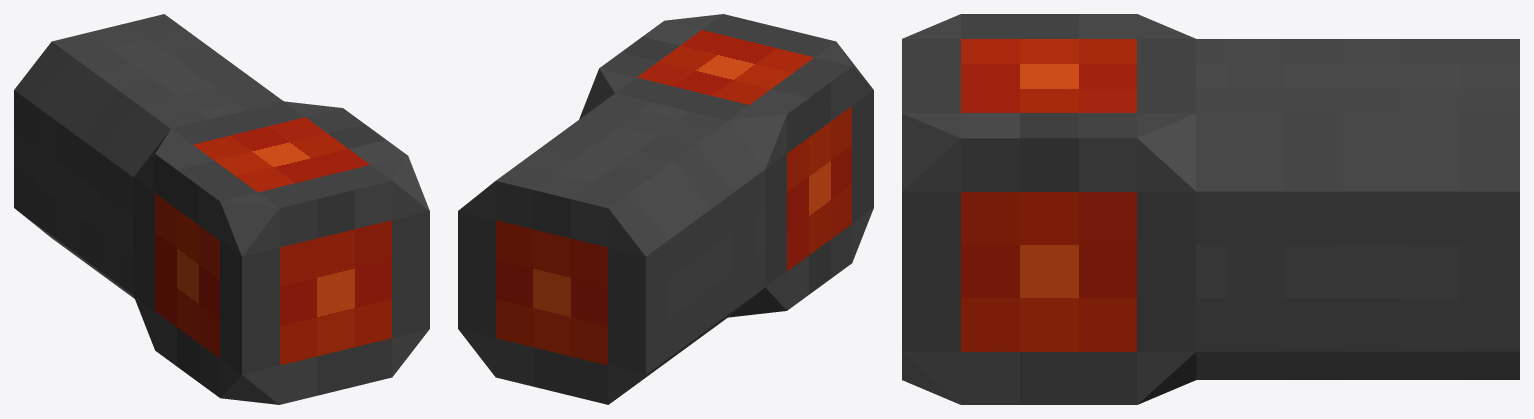
Rendered from red_cable_01.obj.
3 renders of one model, left to right at view 1: azimuth 30°, elevation 25°; view 2: azimuth 150°, elevation 25°; view 3: azimuth 270°, elevation 25°, orthographic. The views are drawn at different scales.
Parts seen in each view (by area): view 1: Core, posZ; view 2: posZ, Core; view 3: Core, posZ.
Boxes of the visible parts, left/top/right/bottom form: Core: left=133, top=101, right=429, bottom=404; posZ: left=14, top=14, right=283, bottom=298; posZ: left=458, top=93, right=765, bottom=404; Core: left=579, top=14, right=873, bottom=317; Core: left=902, top=14, right=1196, bottom=404; posZ: left=1196, top=39, right=1519, bottom=379.
Bounding box in the file's own units: 0.3125 × 0.3125 × 0.6562.
